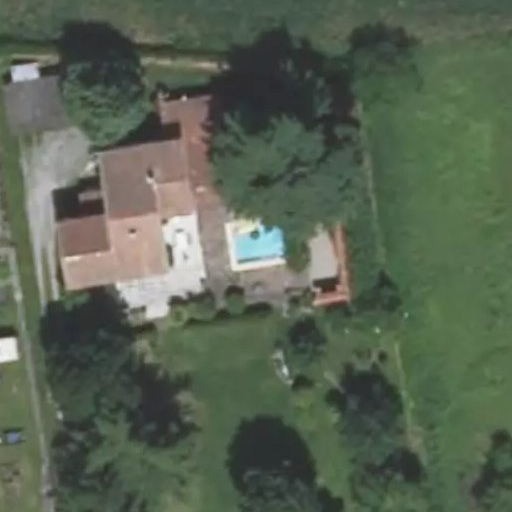pool: (228, 227, 283, 256)
